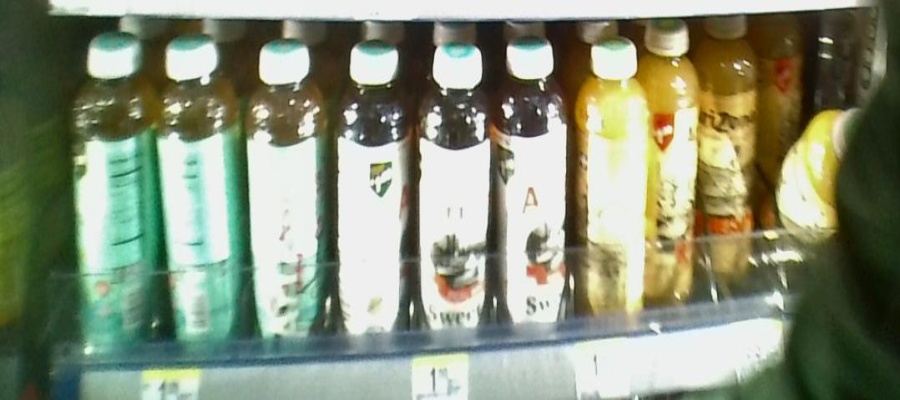bottle: (68, 26, 154, 352), (155, 28, 241, 345), (332, 40, 414, 345), (493, 27, 574, 335), (248, 36, 330, 331), (415, 38, 494, 343), (579, 29, 646, 329), (700, 9, 759, 282), (647, 19, 696, 311)
